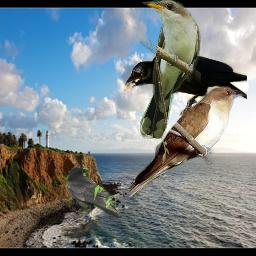Crow: (123, 50, 247, 116), (66, 167, 123, 218)
Cuckoo: (129, 85, 247, 199), (140, 0, 201, 139)
